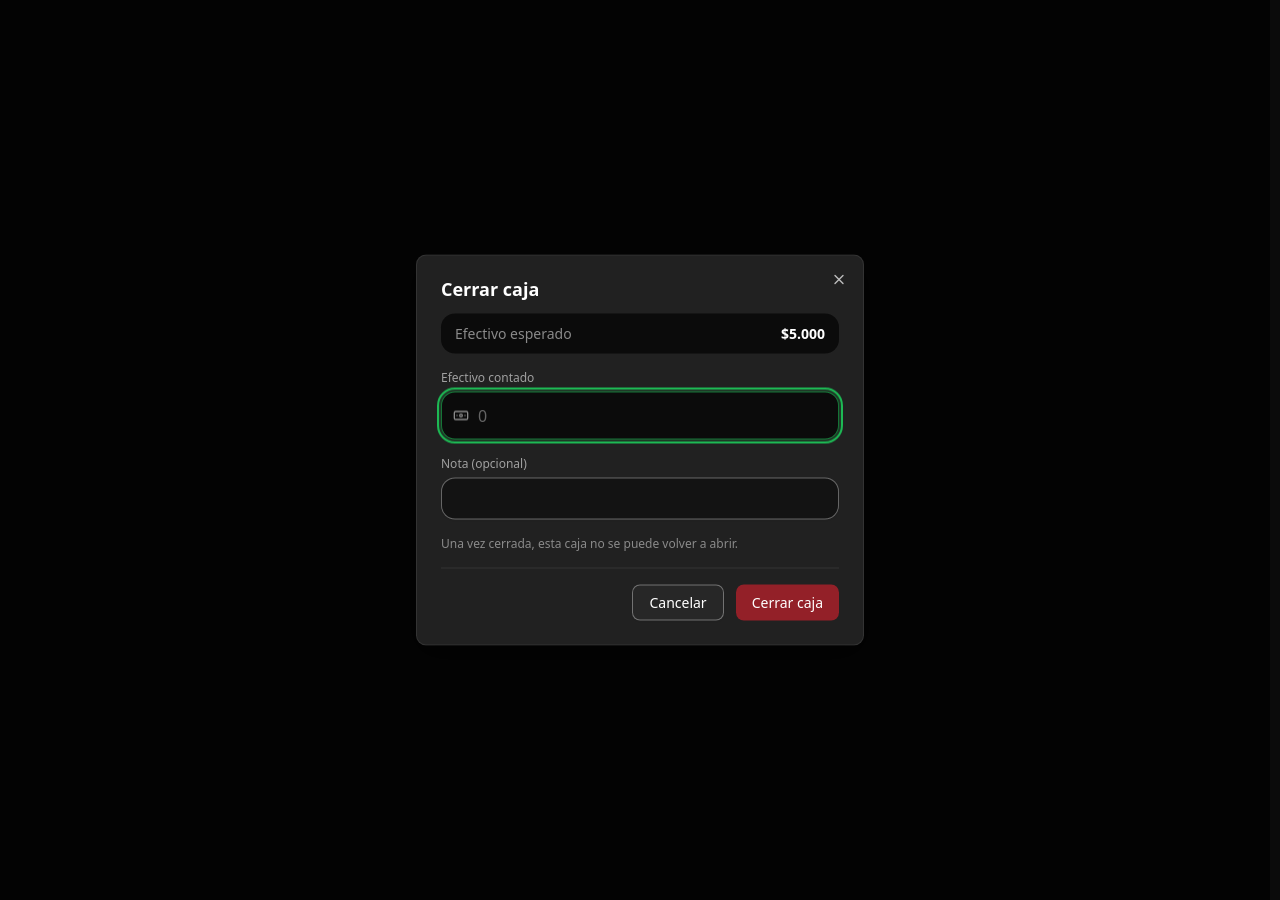
Scenario: CloseCashSessionDialog — live difference › shows faltante live as soon as counted is under expected
In the field labelled "Efectivo contado": (640, 416) x1=441 y1=392 x2=839 y2=440, type "4000"
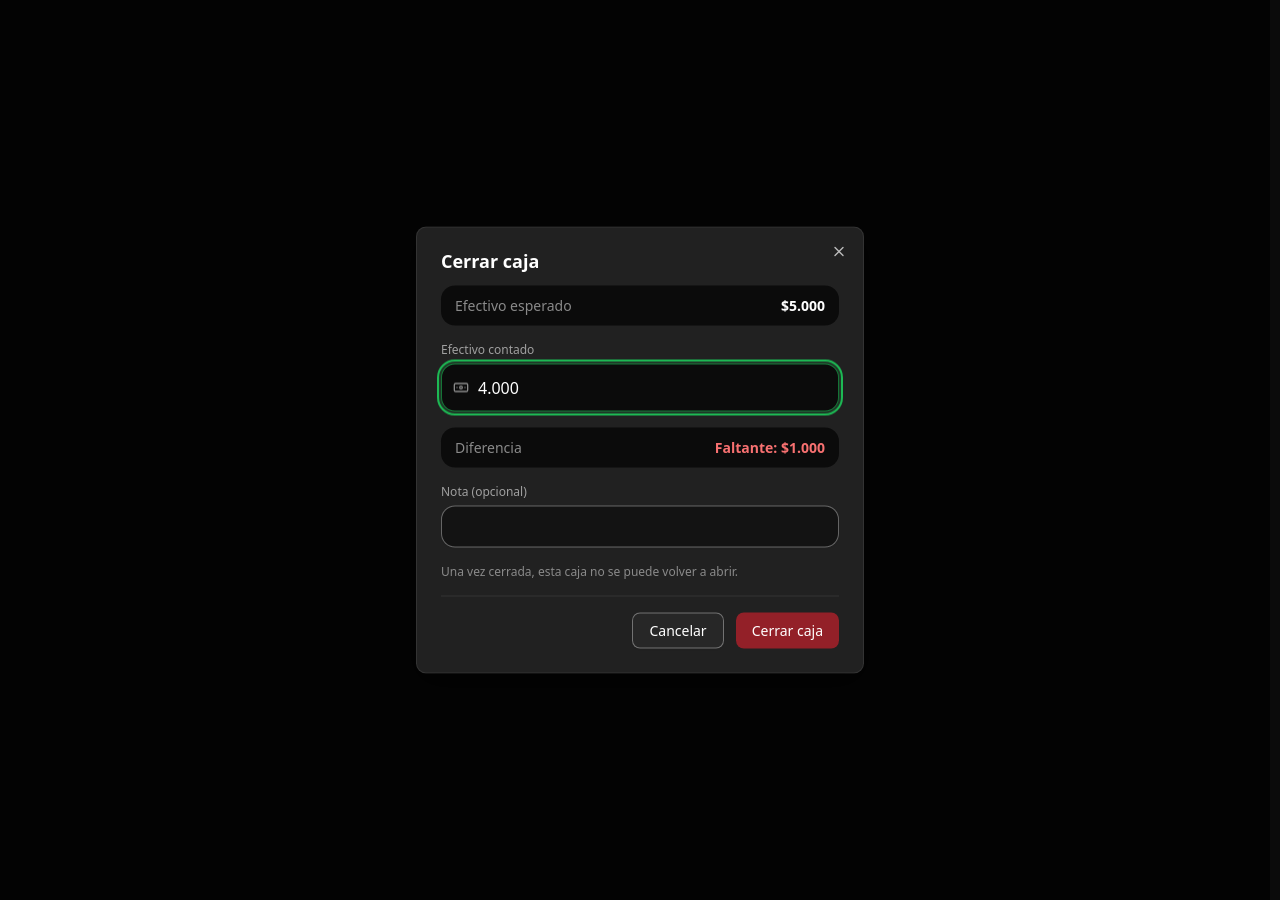
Expected: the text "Faltante: $1.000" is shown, x1=715 y1=438 x2=825 y2=458
